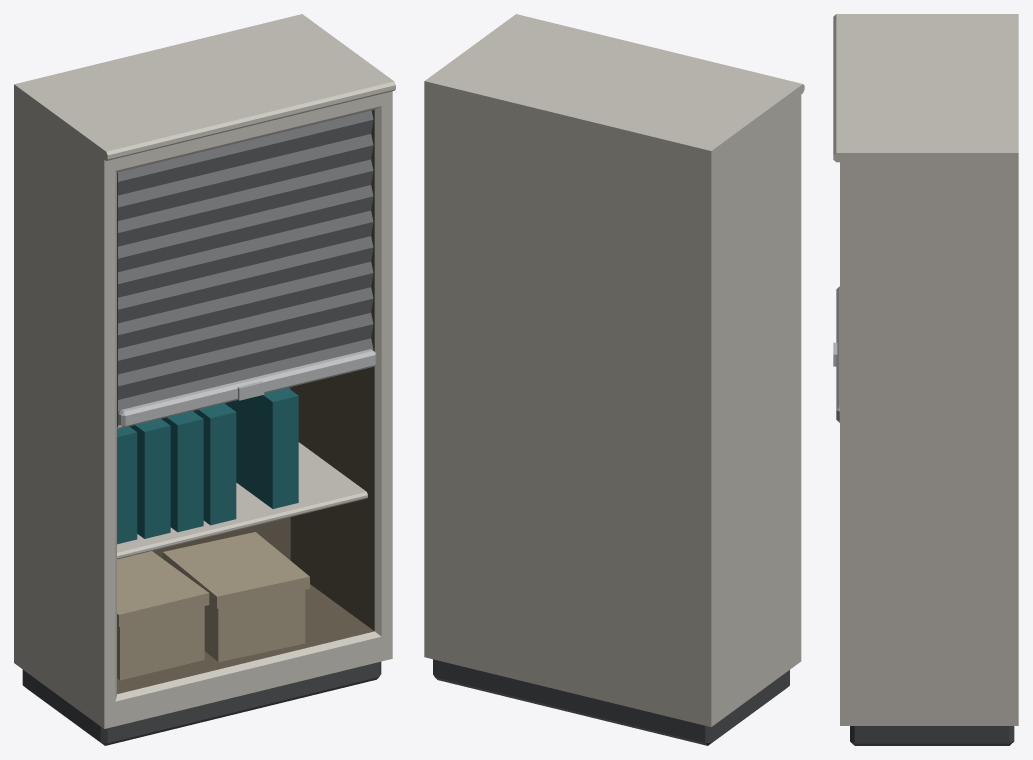
File: archive.glb
3 renders of one model, left to right at view 1: azimuth 30°, elevation 25°; view 2: azimuth 150°, elevation 25°; view 3: azimuth 270°, elevation 25°, orthographic.
Parts seen in each view (by area): view 1: cupboard, shutter, contents; view 2: cupboard; view 3: cupboard, shutter.
Boxes of the visible parts, <box> form: cupboard: <box>14,14,395,745</box>; shutter: <box>117,110,376,427</box>; contents: <box>117,388,309,680</box>; cupboard: <box>424,14,804,745</box>; cupboard: <box>833,14,1018,745</box>; shutter: <box>833,286,839,422</box>.
Size of the model in its own units: 0.8001 by 1.6 by 0.4504.
